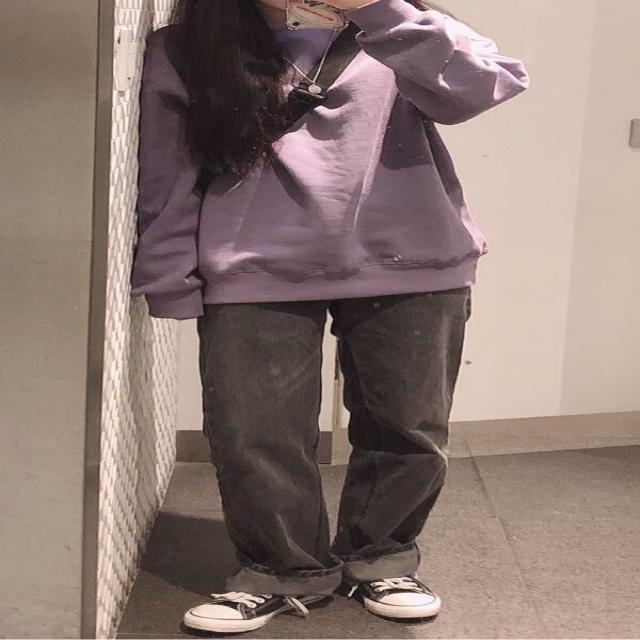denimpants: (199, 289, 459, 590)
mtm: (142, 0, 522, 312)
